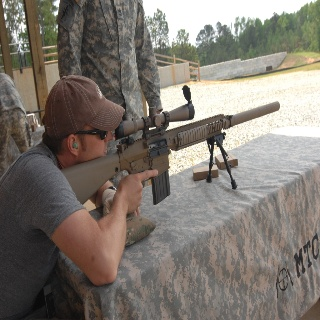rifle: (58, 85, 281, 192)
